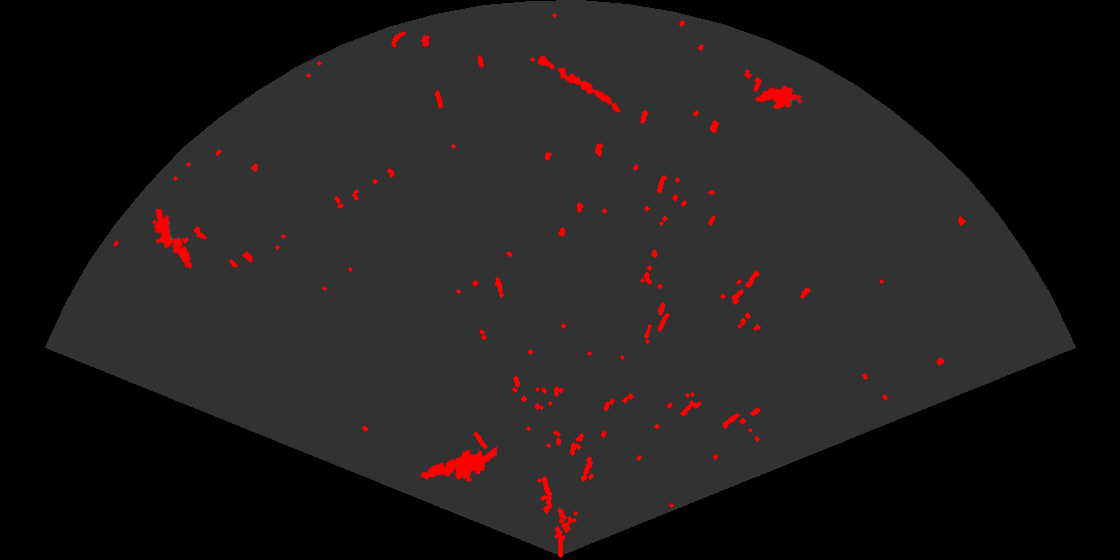AUV: (753, 84, 804, 111)
chain: (536, 54, 622, 114)
frogman: (419, 445, 497, 483), (152, 209, 194, 270)
